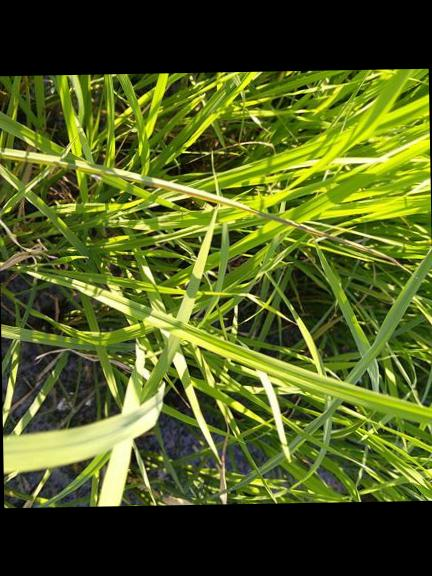Leaf Blight: (71, 158, 410, 271)
